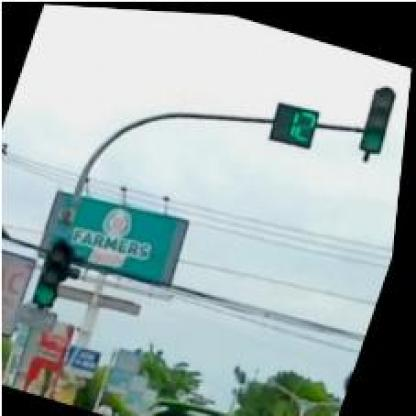green: (356, 77, 403, 150), (34, 234, 80, 308)
